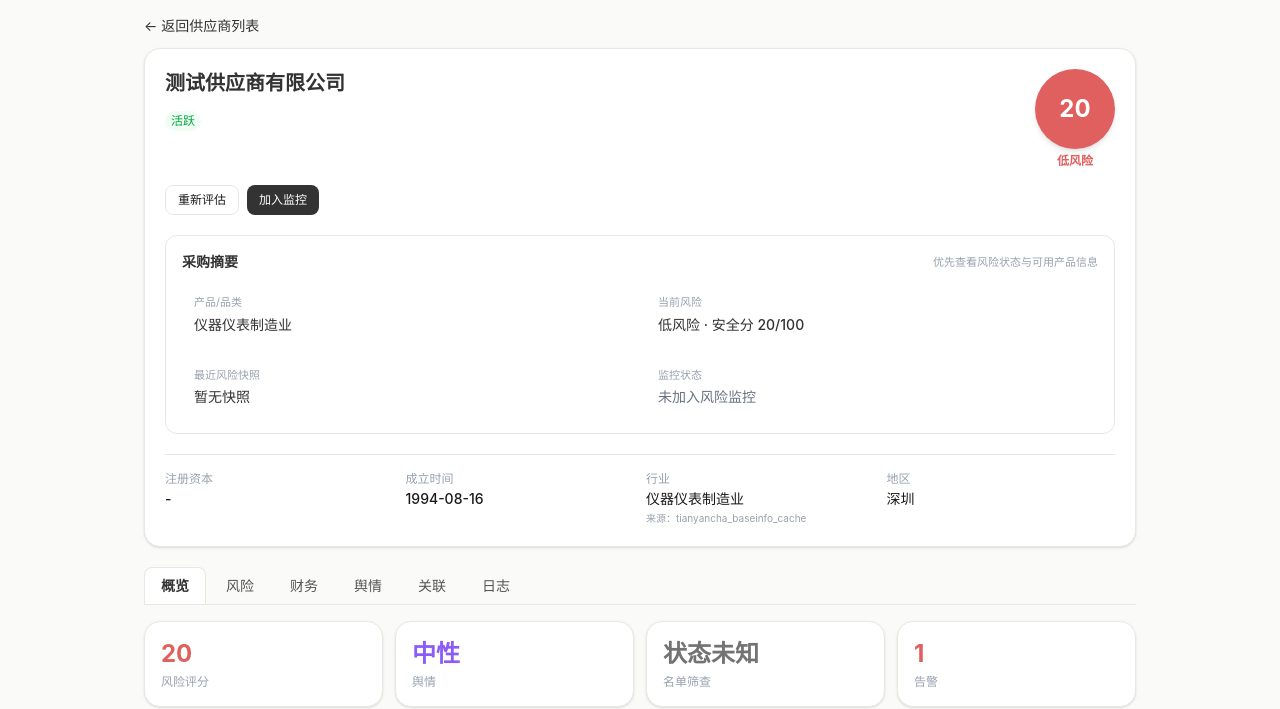
it: SupplierProfilePage › renders financial ratios and cash flow with the Agent contract units
Expected: the heading "测试供应商有限公司" is shown, [165,71,345,95]
Click the button "财务": coordinates (304, 586) [274,567,334,604]
(page scrolled)
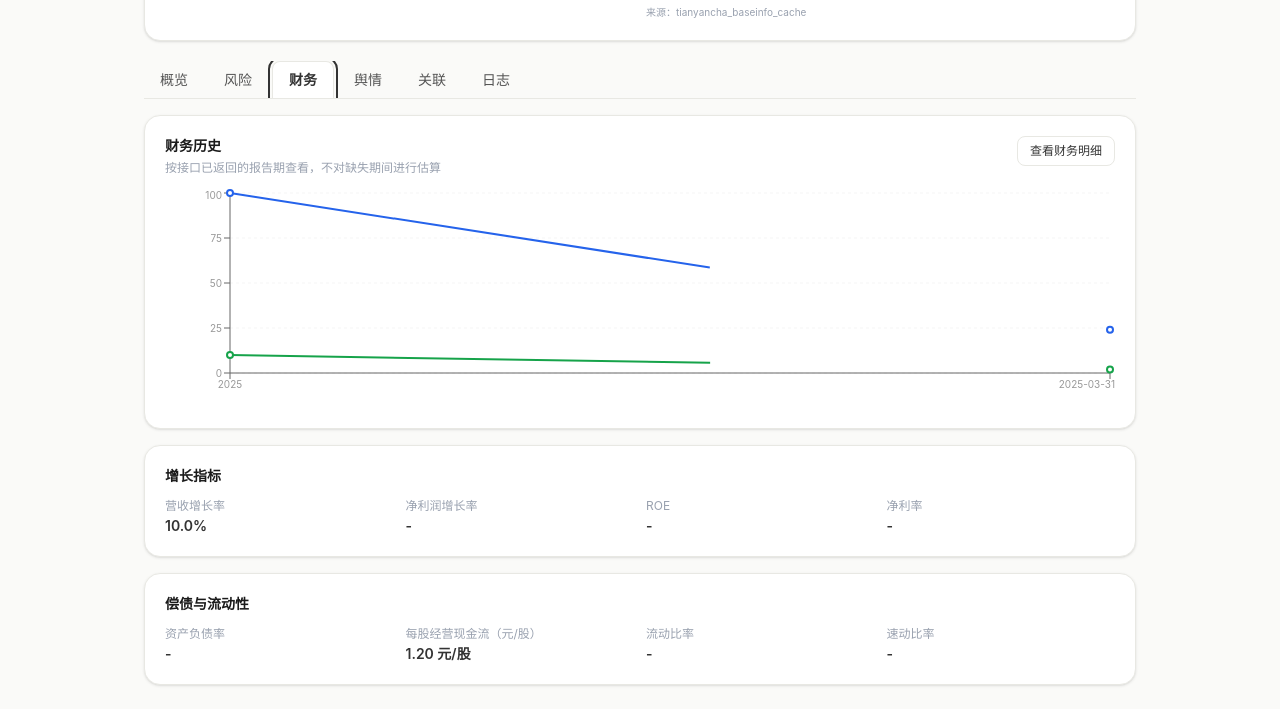
Expected: the text "10.0%" is shown, [165,517,207,534]
Expected: the text "每股经营现金流（元/股）" is shown, [406,626,542,641]
Expected: the text "1.20 元/股" is shown, [406,645,471,662]
